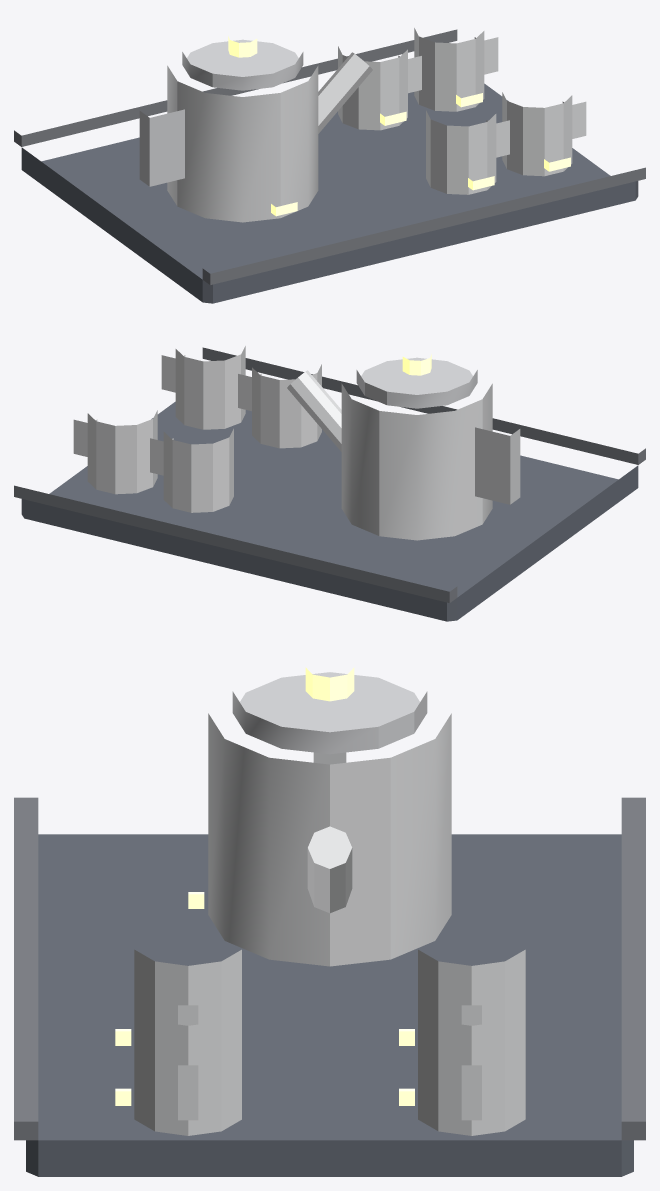
The model's file is iter_01.glb.
3 renders of one model, top to bottom at view 1: azimuth 30°, elevation 25°; view 2: azimuth 150°, elevation 25°; view 3: azimuth 270°, elevation 25°, orthographic. The views are drawn at different scales.
Parts seen in each view (by area): view 1: Tray, Pot_Body, Cups, Tray_Rim, Pot_Lid, Pot_Handle, Cup_Handles, Spout, Dock_Latches, Lid_Knob; view 2: Tray, Cups, Pot_Body, Tray_Rim, Pot_Lid, Pot_Handle, Cup_Handles, Spout, Lid_Knob; view 3: Tray, Pot_Body, Cups, Tray_Rim, Pot_Lid, Spout, Cup_Handles, Dock_Latches, Lid_Knob.
Boxes of the visible parts, bbox=[...] form: Tray: bbox=[21, 83, 638, 303]; Pot_Body: bbox=[167, 65, 318, 222]; Cups: bbox=[338, 28, 572, 194]; Tray_Rim: bbox=[14, 29, 645, 285]; Pot_Lid: bbox=[182, 39, 303, 90]; Pot_Handle: bbox=[139, 109, 184, 186]; Cup_Handles: bbox=[398, 37, 586, 157]; Spout: bbox=[318, 52, 372, 133]; Dock_Latches: bbox=[271, 93, 570, 216]; Lid_Knob: bbox=[228, 36, 257, 57]; Tray: bbox=[21, 401, 638, 621]; Cups: bbox=[87, 346, 321, 512]; Pot_Body: bbox=[341, 383, 492, 540]; Tray_Rim: bbox=[14, 347, 645, 603]; Pot_Lid: bbox=[356, 357, 477, 408]; Pot_Handle: bbox=[475, 427, 520, 504]; Cup_Handles: bbox=[73, 355, 261, 475]; Spout: bbox=[287, 370, 341, 451]; Lid_Knob: bbox=[402, 354, 431, 375]; Tray: bbox=[26, 834, 633, 1176]; Pot_Body: bbox=[208, 713, 451, 966]; Cups: bbox=[134, 949, 525, 1135]; Tray_Rim: bbox=[14, 797, 645, 1140]; Pot_Lid: bbox=[232, 672, 427, 754]; Spout: bbox=[307, 826, 352, 913]; Cup_Handles: bbox=[178, 1005, 481, 1120]; Dock_Latches: bbox=[115, 892, 414, 1105]; Lid_Knob: bbox=[305, 667, 354, 701].
Size of the model in its own units: 0.4 by 0.147 by 0.312.
